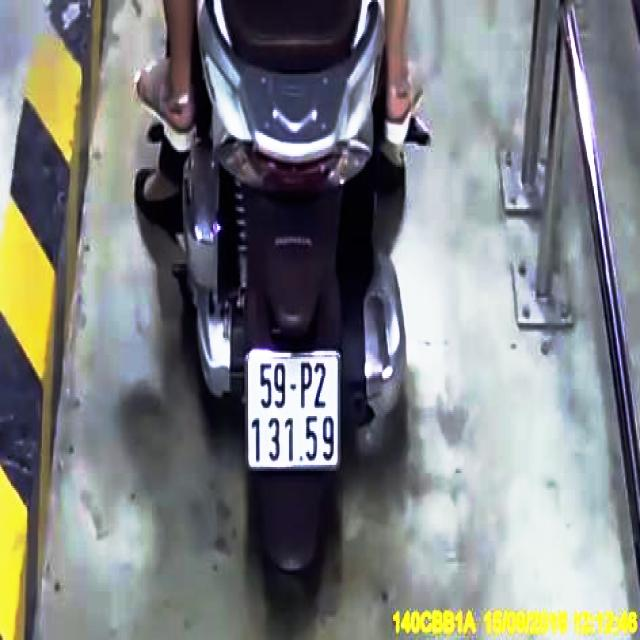license_plate: (245, 352, 340, 469)
